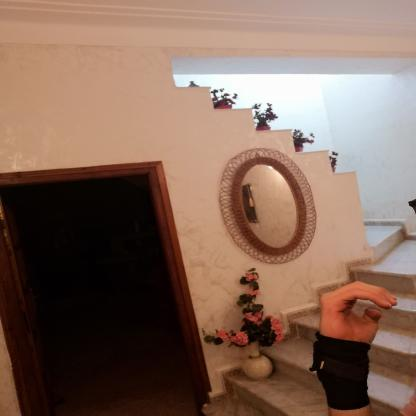JEEM: (304, 269, 410, 360)
